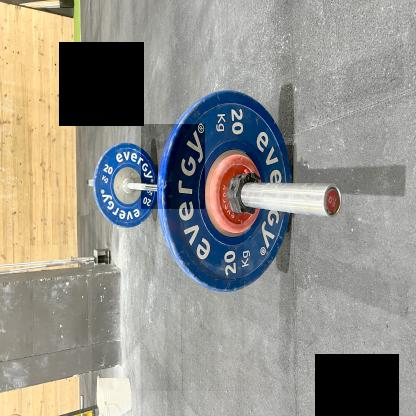barbell: (94, 210, 246, 392), (142, 125, 206, 213)
